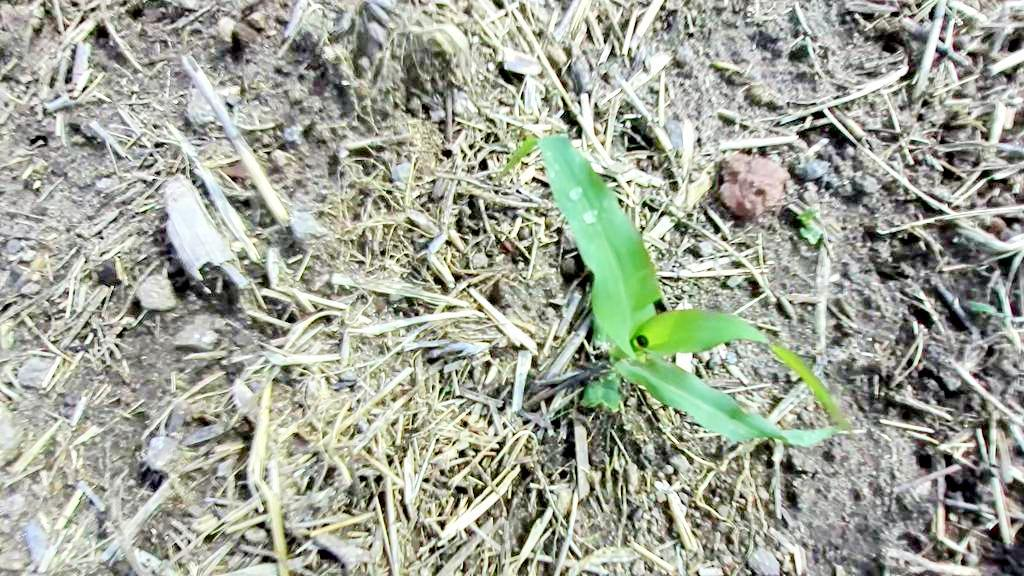BroWeed: (947, 512, 960, 523)
Maize: (419, 118, 863, 550)
